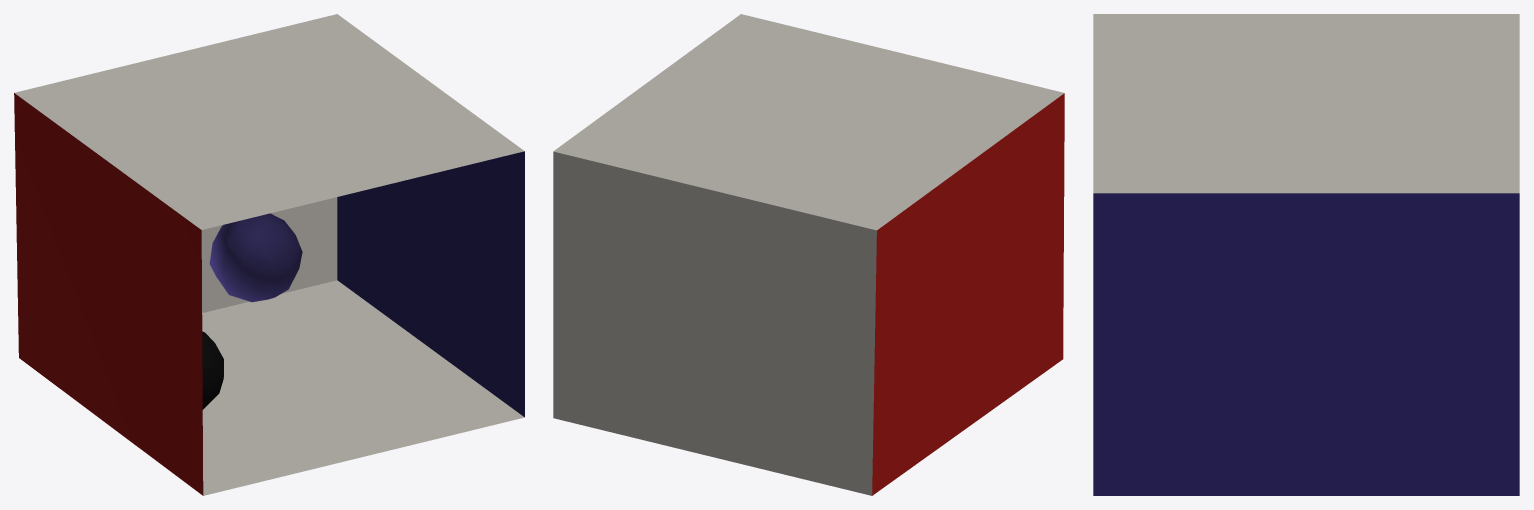
Rendered from CornellBox-Sphere-1106.obj.
The picture shows the model from 3 angles, left to right: view 1: azimuth 30°, elevation 25°; view 2: azimuth 150°, elevation 25°; view 3: azimuth 270°, elevation 25°; orthographic projection. The views are drawn at different scales.
Parts seen in each view (by area): view 1: ceiling, leftWall, floor, rightWall, leftSphere, backWall, rightSphere; view 2: backWall, ceiling, leftWall; view 3: rightWall, ceiling.
Boxes of the visible parts, bbox=[...] form: ceiling: bbox=[14, 14, 524, 229]; leftWall: bbox=[14, 93, 203, 495]; floor: bbox=[202, 280, 524, 495]; rightWall: bbox=[337, 151, 524, 417]; leftSphere: bbox=[209, 213, 302, 302]; backWall: bbox=[201, 197, 337, 312]; rightSphere: bbox=[202, 331, 223, 409]; backWall: bbox=[553, 151, 876, 495]; ceiling: bbox=[553, 14, 1064, 230]; leftWall: bbox=[872, 93, 1064, 495]; rightWall: bbox=[1093, 193, 1519, 495]; ceiling: bbox=[1093, 14, 1519, 193].
Bounding box in the file's own units: 2.02 × 1.59 × 2.03.
